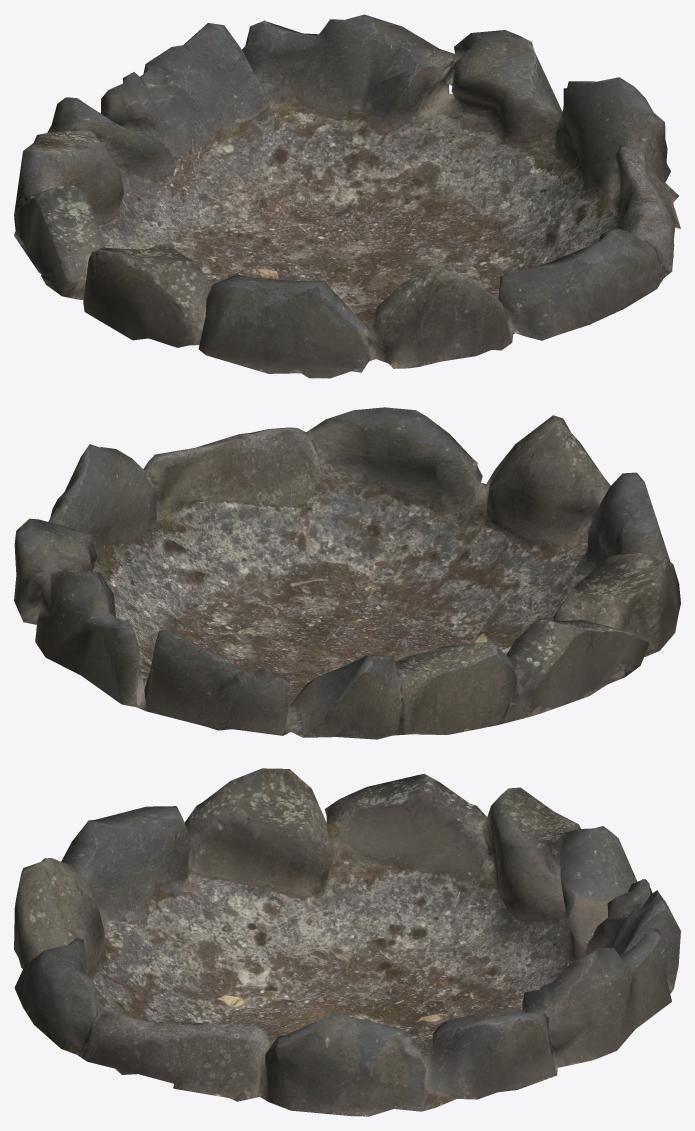
File: stone_fire_pit.glb
3 views of the same model, one above another, from view 1: azimuth 30°, elevation 25°; view 2: azimuth 150°, elevation 25°; view 3: azimuth 270°, elevation 25° (orthographic).
Parts seen in each view (by area): view 1: stone_fire_pit; view 2: stone_fire_pit; view 3: stone_fire_pit.
Part boxes in pixels (left/top/right/bottom): stone_fire_pit: left=14, top=14, right=680, bottom=378; stone_fire_pit: left=14, top=407, right=680, bottom=739; stone_fire_pit: left=14, top=768, right=680, bottom=1116.
Size of the model in its own units: 1.45 by 0.3884 by 1.43.
1 material, 1 textured.
